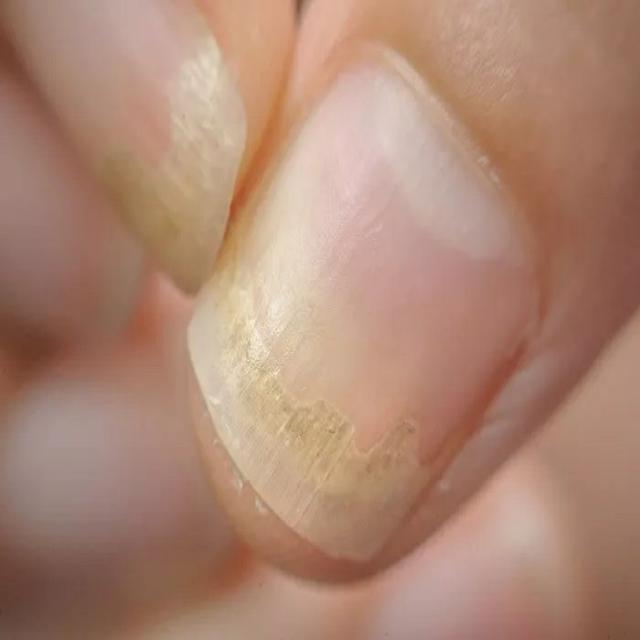diabetes: (186, 57, 533, 564), (0, 2, 246, 300)
